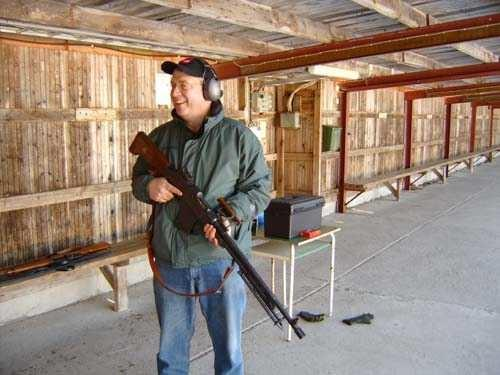heavyweapon: (126, 122, 338, 356)
